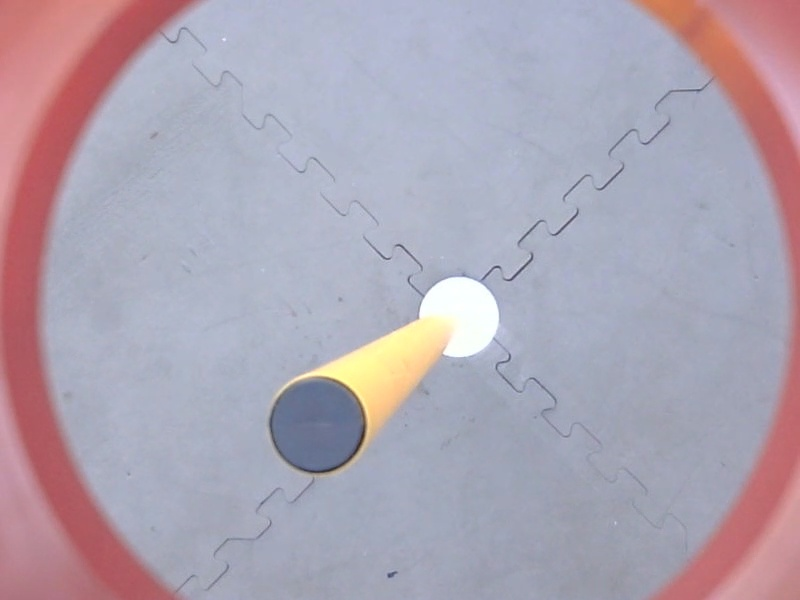tip: (262, 371, 375, 484)
